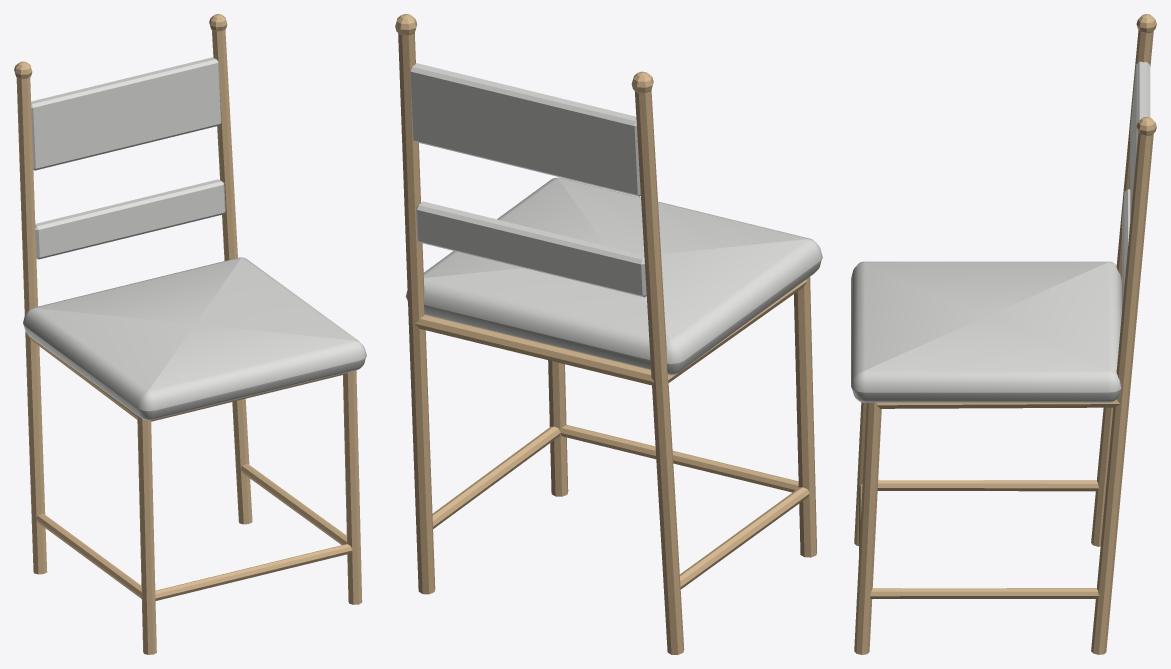
The model's file is wedding-and-chapel-kit-aisle-chair-b89981d2__39387.glb.
3 renders of one model, left to right at view 1: azimuth 30°, elevation 25°; view 2: azimuth 150°, elevation 25°; view 3: azimuth 270°, elevation 25°, orthographic. The views are drawn at different scales.
Visible parts, largest first — view 1: aisle-chair; view 2: aisle-chair; view 3: aisle-chair.
Part boxes in pixels (box(x1,y1,x2,y2)): aisle-chair: box(14, 14, 366, 654); aisle-chair: box(395, 14, 822, 654); aisle-chair: box(851, 14, 1156, 654).
Size of the model in its own units: 0.444 by 0.917 by 0.478.
